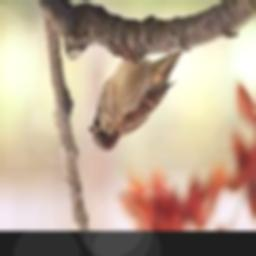Sparrow: (88, 50, 183, 151)
